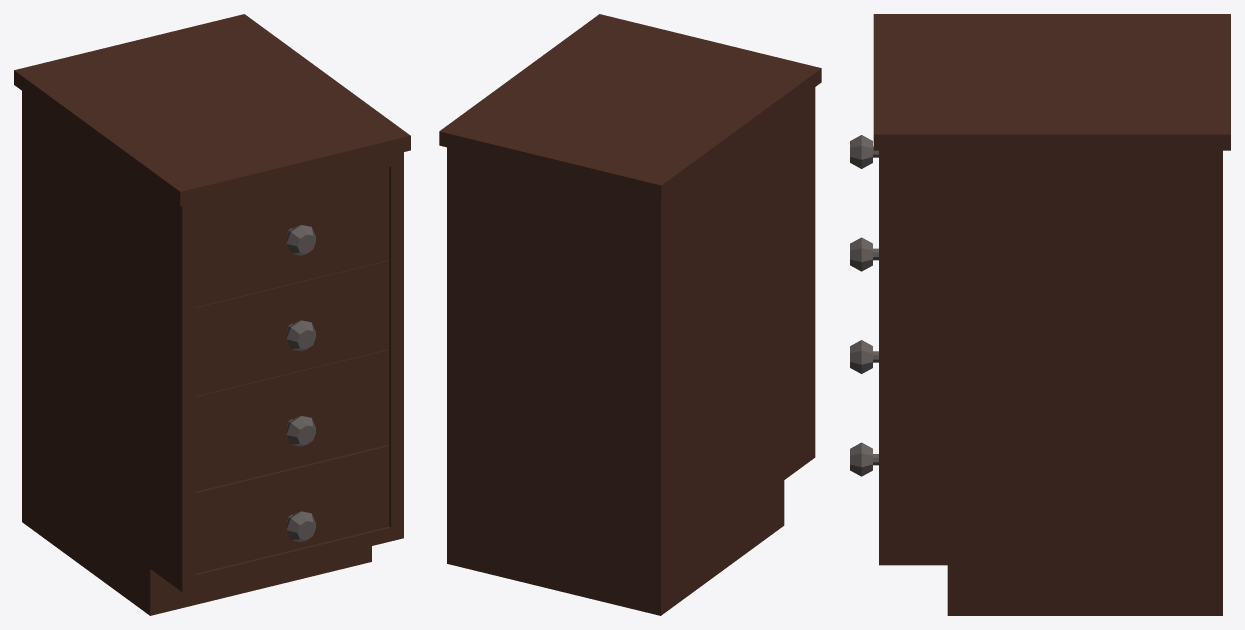
Rendered from DrawersBaseCabinet1.glb.
3 views of the same model, side by side, from view 1: azimuth 30°, elevation 25°; view 2: azimuth 150°, elevation 25°; view 3: azimuth 270°, elevation 25° (orthographic). The views are drawn at different scales.
Parts seen in each view (by area): view 1: DrawersBaseCabinet, Drawer2DrawersBaseCabinet, Drawer3DrawersBaseCabinet, Drawer1DrawersBaseCabinet, Drawer4DrawersBaseCabinet; view 2: DrawersBaseCabinet; view 3: DrawersBaseCabinet, Drawer2DrawersBaseCabinet, Drawer4DrawersBaseCabinet, Drawer3DrawersBaseCabinet, Drawer1DrawersBaseCabinet.
Part boxes in pixels (bbox=[...]): DrawersBaseCabinet: bbox=[14, 14, 410, 615]; Drawer2DrawersBaseCabinet: bbox=[195, 260, 389, 396]; Drawer3DrawersBaseCabinet: bbox=[195, 356, 389, 491]; Drawer1DrawersBaseCabinet: bbox=[195, 167, 389, 300]; Drawer4DrawersBaseCabinet: bbox=[195, 452, 389, 573]; DrawersBaseCabinet: bbox=[439, 14, 821, 615]; DrawersBaseCabinet: bbox=[873, 14, 1230, 615]; Drawer2DrawersBaseCabinet: bbox=[850, 237, 878, 271]; Drawer4DrawersBaseCabinet: bbox=[850, 442, 878, 476]; Drawer3DrawersBaseCabinet: bbox=[850, 340, 878, 373]; Drawer1DrawersBaseCabinet: bbox=[850, 135, 878, 168].
Size of the model in its own units: 0.4863 by 0.9081 by 0.6482.
